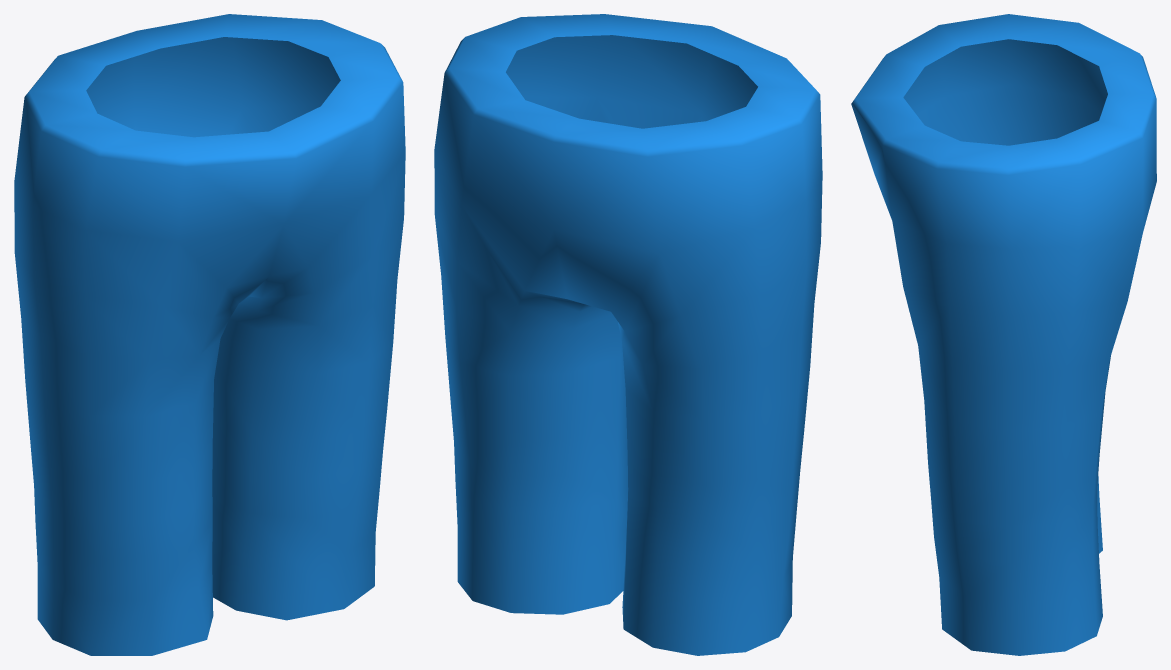
Rendered from Pants_Blue_001.glb.
3 views of the same model, side by side, from view 1: azimuth 30°, elevation 25°; view 2: azimuth 150°, elevation 25°; view 3: azimuth 270°, elevation 25° (orthographic). The views are drawn at different scales.
Parts seen in each view (by area): view 1: Pants_Blue_001; view 2: Pants_Blue_001; view 3: Pants_Blue_001.
Boxes of the visible parts, left/top/right/bottom form: Pants_Blue_001: left=14, top=14, right=405, bottom=655; Pants_Blue_001: left=434, top=14, right=822, bottom=655; Pants_Blue_001: left=851, top=14, right=1156, bottom=655.
Bounding box in the file's own units: 0.46 × 0.6458 × 0.3616.
1 material, 1 textured.
